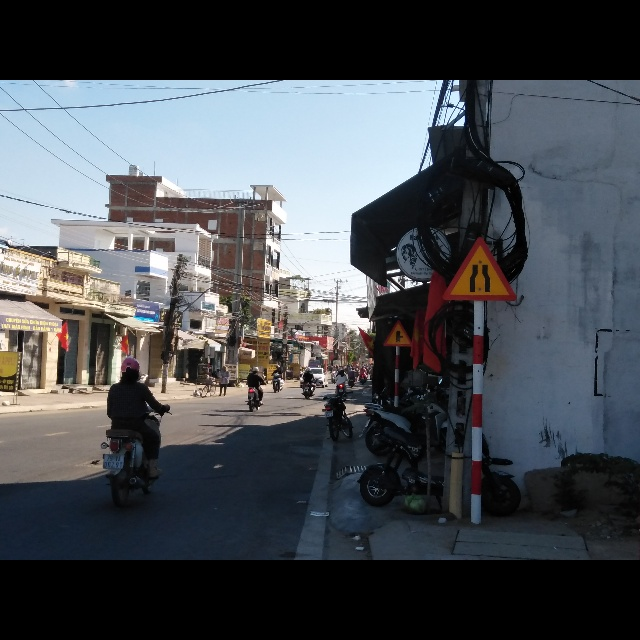Giao nhau với đường không ưu tiên: (383, 322, 412, 348)
Đường bị hẹp cả hai bên: (440, 234, 519, 303)
